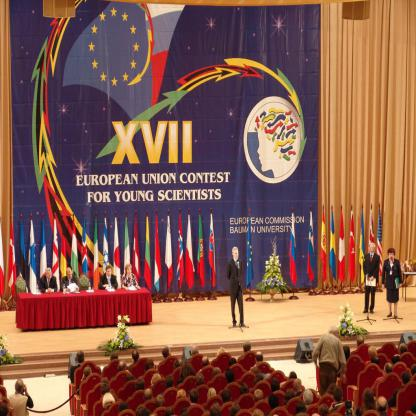face: (234, 251, 239, 259), (390, 253, 395, 261), (127, 267, 132, 275), (68, 272, 73, 280), (107, 269, 112, 277), (48, 271, 53, 279), (370, 245, 374, 252), (335, 331, 339, 338), (169, 350, 172, 356)
